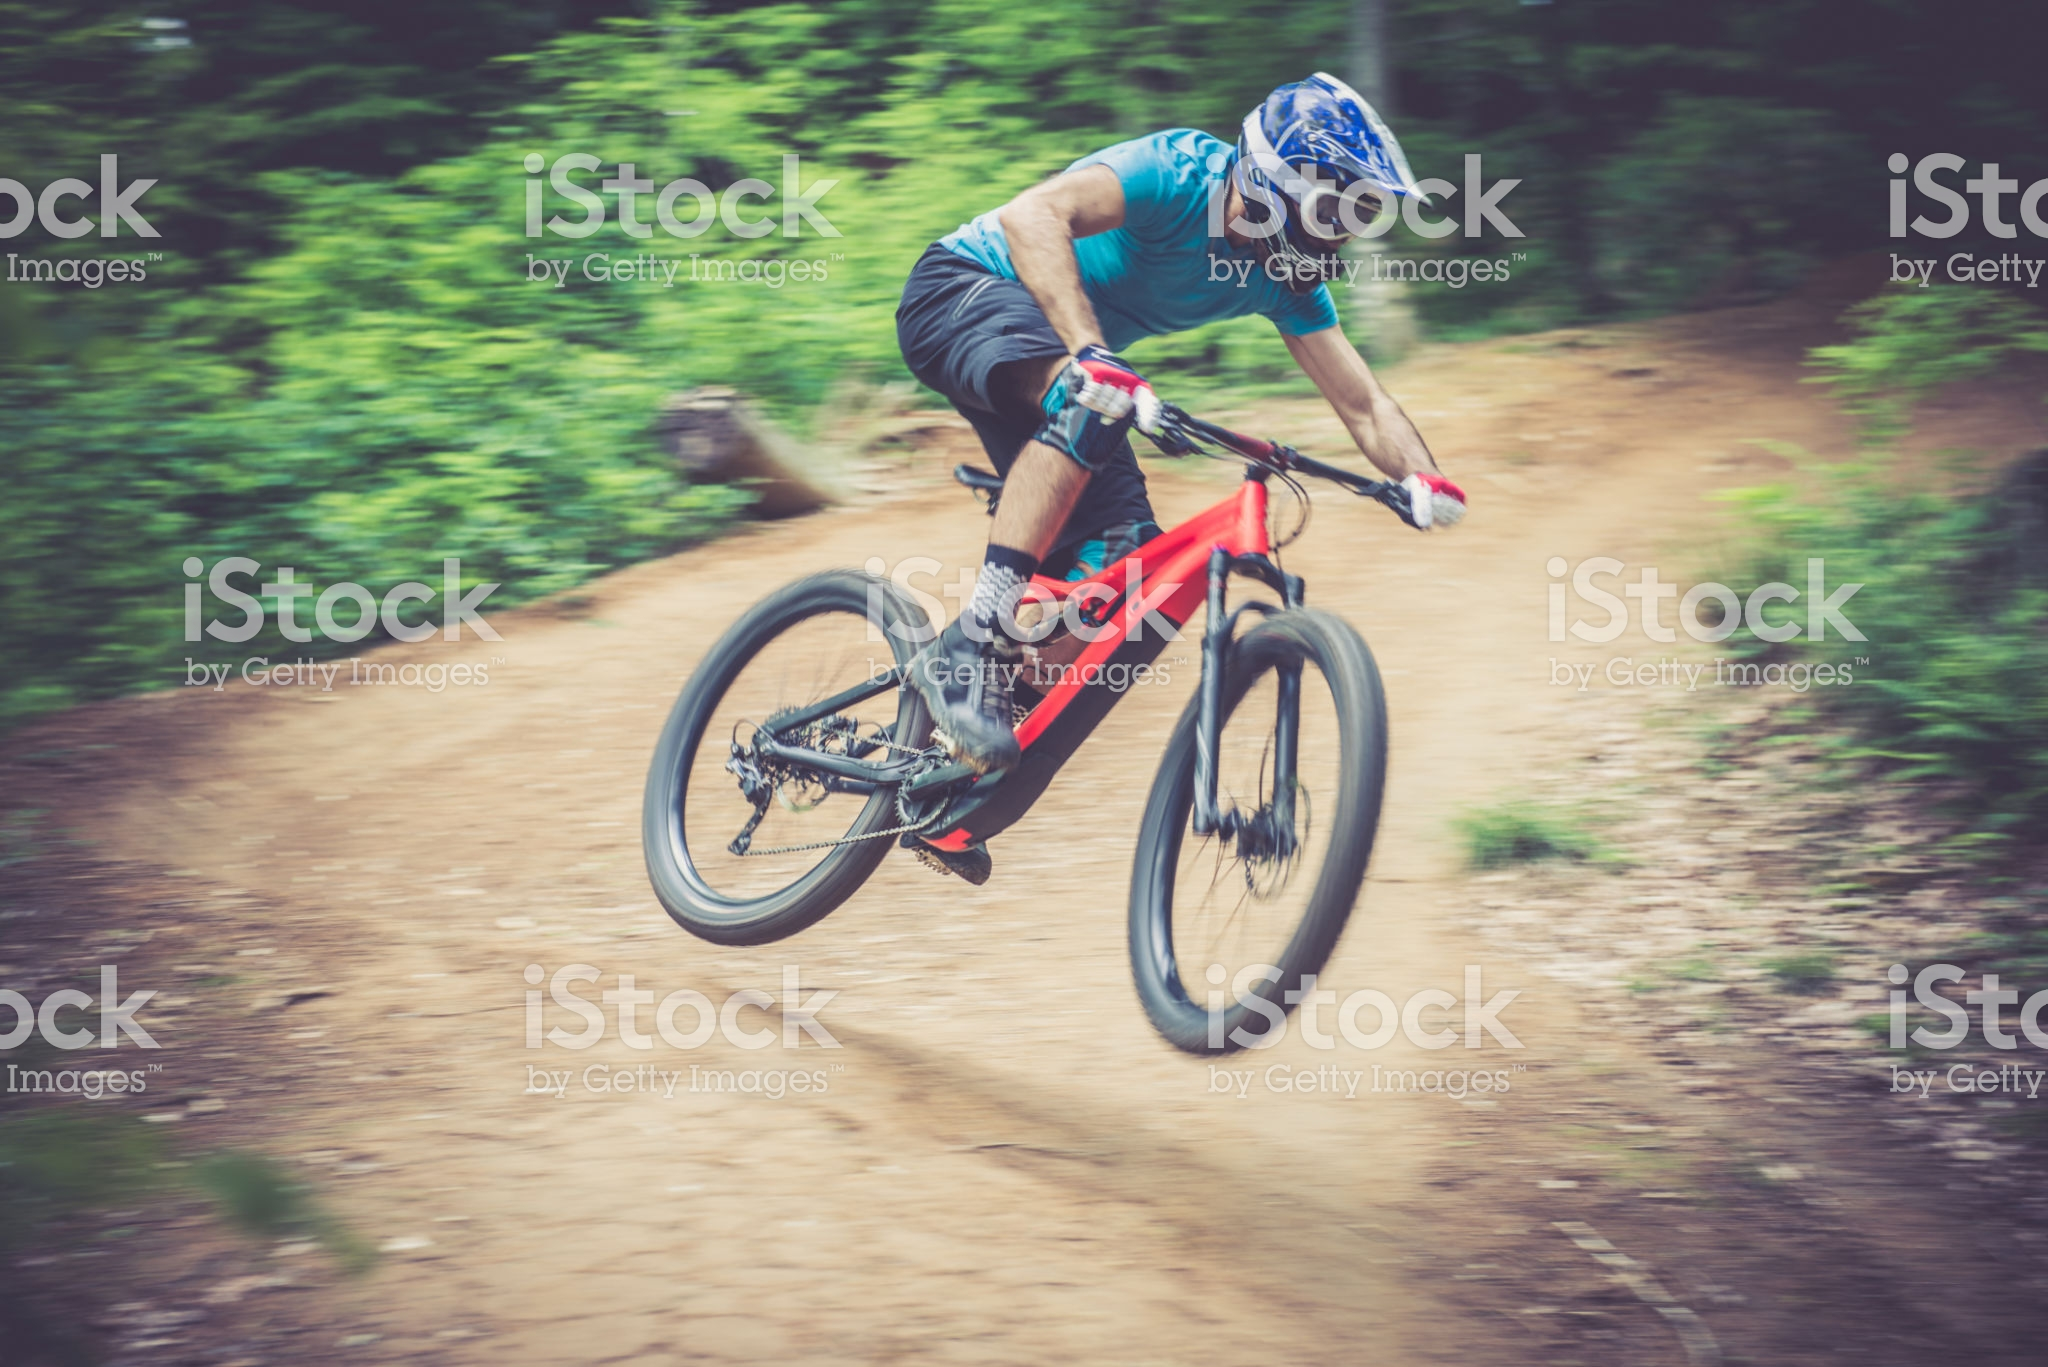helmet: (1194, 76, 1430, 276)
